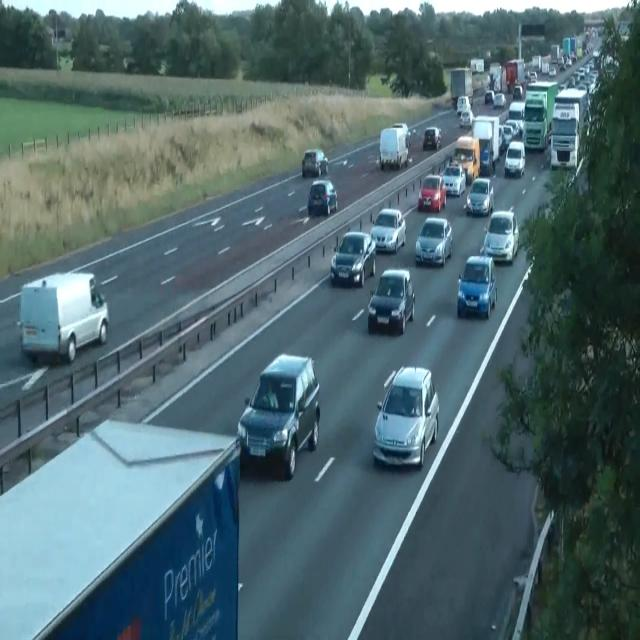bus: (373, 364, 439, 468), (367, 268, 415, 334), (330, 230, 376, 287), (457, 254, 497, 319), (479, 209, 519, 265), (414, 216, 452, 267), (370, 207, 406, 253), (308, 179, 338, 216), (466, 177, 494, 216), (418, 174, 446, 212), (442, 162, 466, 196), (302, 148, 328, 178), (392, 121, 411, 148), (422, 126, 442, 150), (479, 148, 494, 175), (616, 19, 633, 42), (499, 124, 513, 151), (459, 109, 474, 128), (457, 95, 471, 114), (493, 91, 506, 108), (512, 84, 522, 100), (484, 90, 494, 104), (529, 70, 537, 83), (548, 66, 556, 76)
jeep: (236, 352, 320, 477), (452, 134, 480, 182), (503, 140, 525, 178)
minibus: (0, 417, 241, 639), (19, 270, 109, 364), (550, 86, 590, 171), (525, 80, 559, 133), (472, 115, 501, 174), (379, 126, 409, 171), (450, 66, 473, 108), (503, 59, 525, 93), (489, 62, 503, 92), (563, 36, 577, 62), (470, 58, 484, 73)
